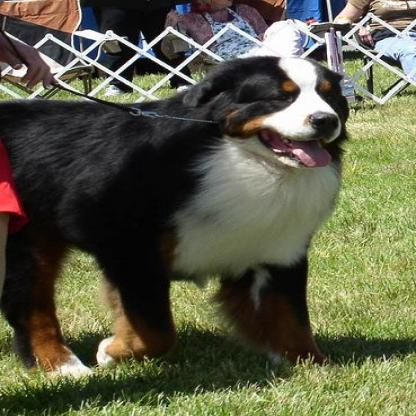Bernese_mountain_dog: (0, 54, 352, 374)
